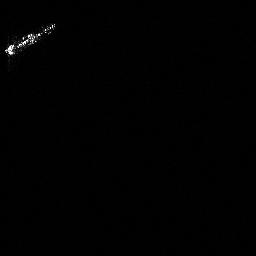ship: (1, 18, 59, 60)
